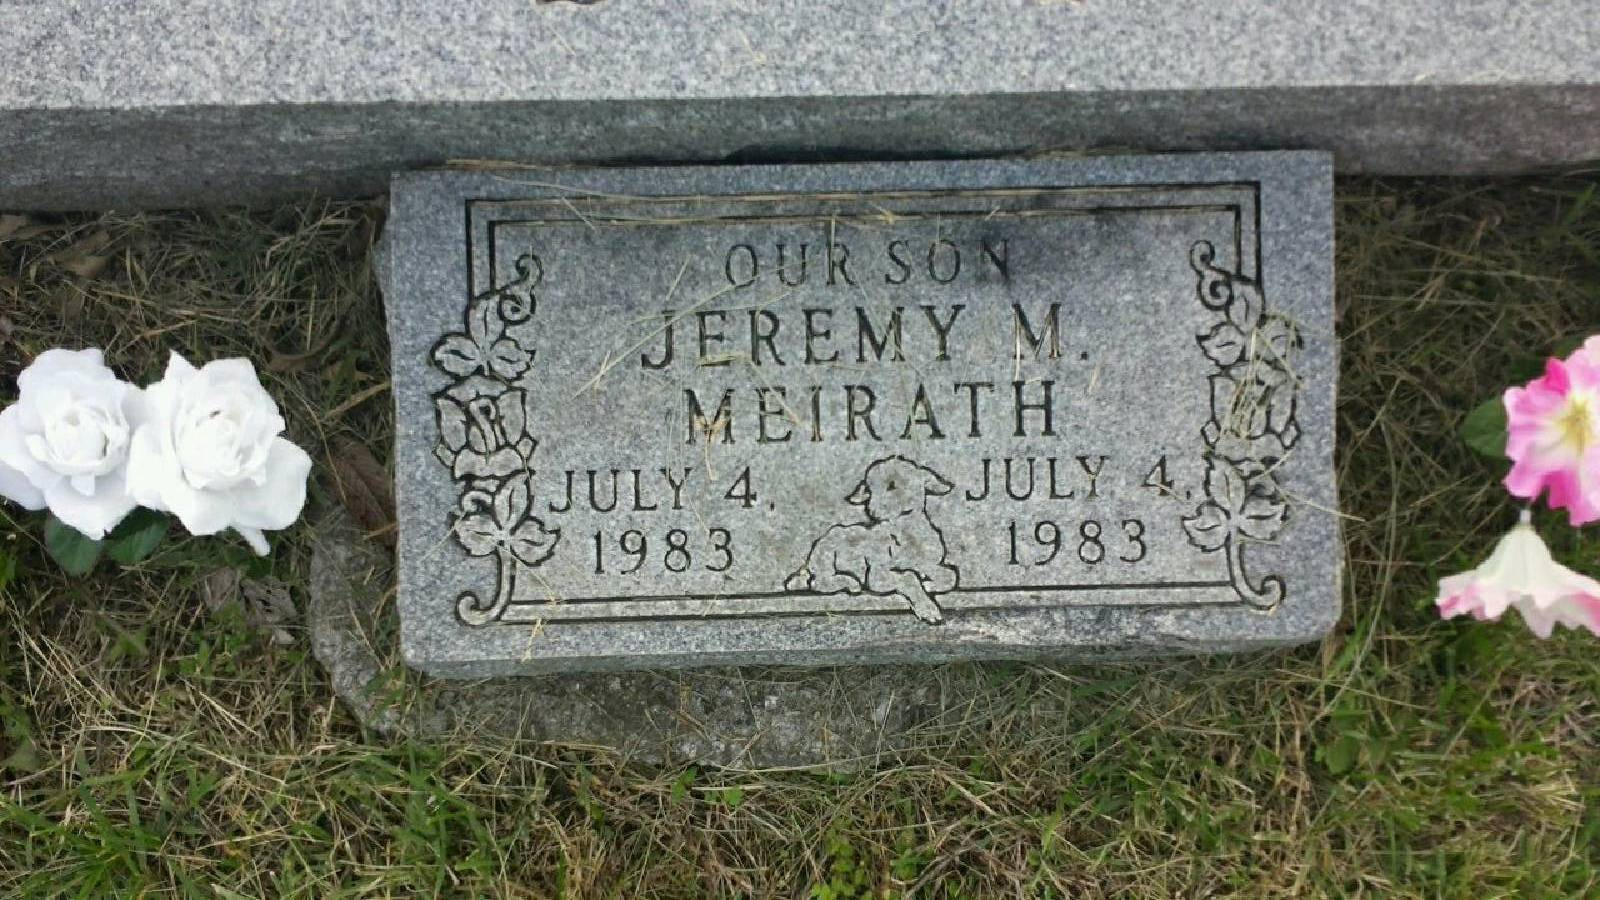flat: (356, 155, 1375, 695)
